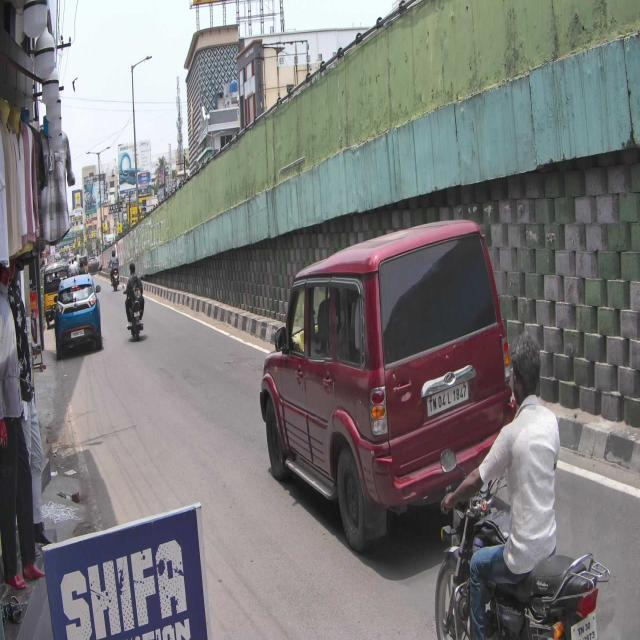single_rider: (437, 332, 609, 640)
